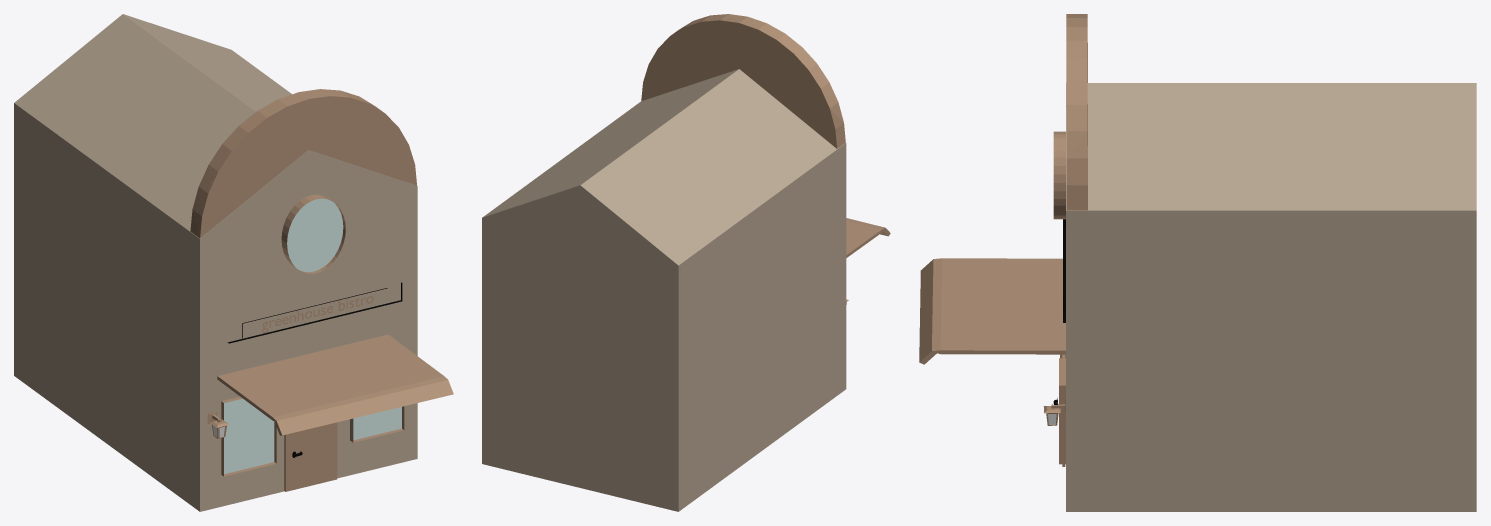
The model's file is greenhousebistro 1.fbx.
The picture shows the model from 3 angles, left to right: view 1: azimuth 30°, elevation 25°; view 2: azimuth 150°, elevation 25°; view 3: azimuth 270°, elevation 25°; orthographic projection. The views are drawn at different scales.
Visible parts, largest first — view 1: Cube, Circle, Plane.004, Cylinder.004, Plane.003, Plane.005, Plane.002, Cylinder.002, Plane.011, Text, Plane; view 2: Cube, Circle, Plane.004; view 3: Cube, Plane.004, Circle, Cylinder.002, Plane.001.
Part boxes in pixels (x1=…): Cube: x1=14, y1=14, x2=417, y2=511; Circle: x1=190, y1=89, x2=416, y2=238; Plane.004: x1=217, y1=334, x2=453, y2=435; Cylinder.004: x1=287, y1=198, x2=343, y2=272; Plane.003: x1=224, y1=398, x2=274, y2=474; Plane.005: x1=284, y1=422, x2=337, y2=491; Plane.002: x1=353, y1=407, x2=401, y2=440; Cylinder.002: x1=281, y1=194, x2=345, y2=273; Plane.011: x1=227, y1=282, x2=402, y2=343; Text: x1=262, y1=296, x2=373, y2=332; Plane: x1=221, y1=396, x2=276, y2=476; Cube: x1=482, y1=69, x2=846, y2=511; Circle: x1=641, y1=14, x2=845, y2=148; Plane.004: x1=846, y1=218, x2=890, y2=257; Cube: x1=1066, y1=83, x2=1476, y2=511; Plane.004: x1=919, y1=258, x2=1065, y2=364; Circle: x1=1066, y1=14, x2=1087, y2=210; Cylinder.002: x1=1053, y1=131, x2=1065, y2=219; Plane.001: x1=1059, y1=358, x2=1065, y2=464.
Size of the model in its own units: 505 by 855 by 1012.
